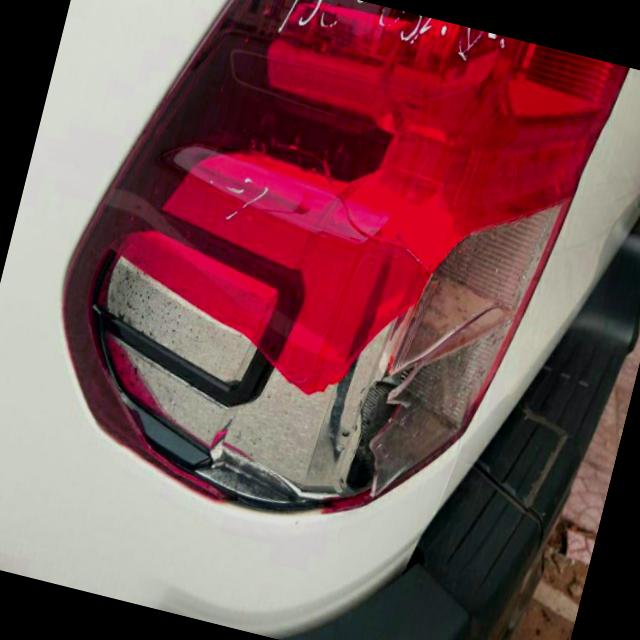Phare abime: (43, 90, 565, 566)
